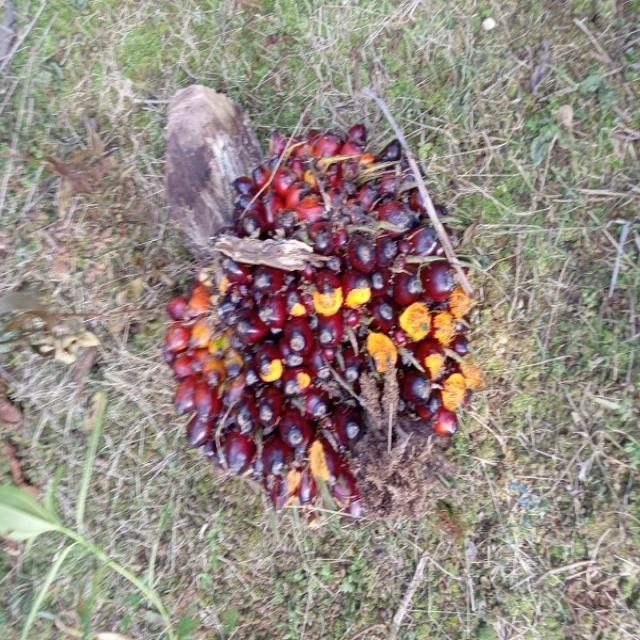fraksi 1: (146, 100, 511, 526)
